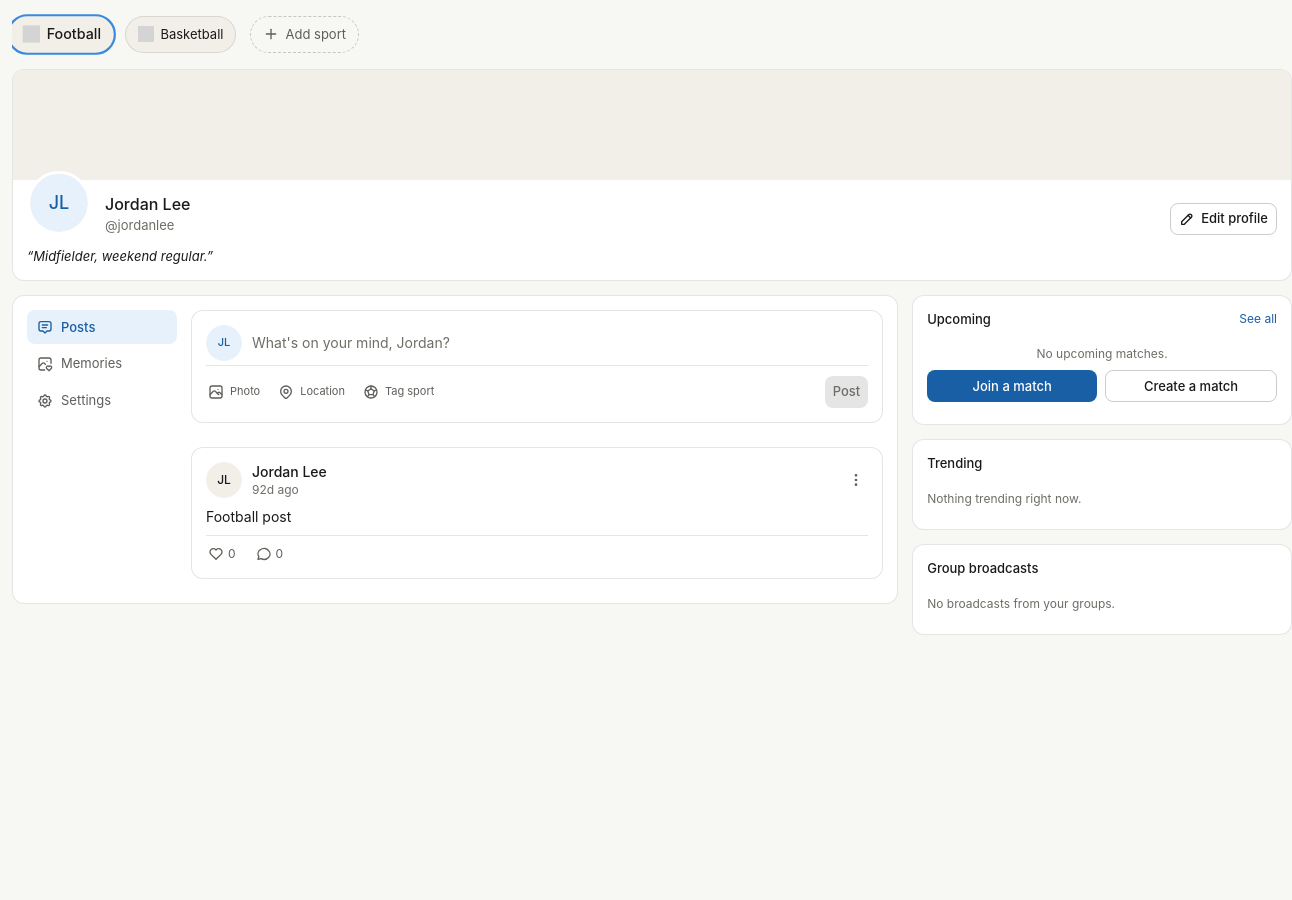
ProfilePage › propagates a SportSwitcher change to both Posts and Settings
Expected: the text "Football post" is shown, [206, 508, 291, 524]
Expected: the text "Basketball post" is not shown
Click the button "Basketball".
click(181, 34)  # box [125, 16, 236, 53]
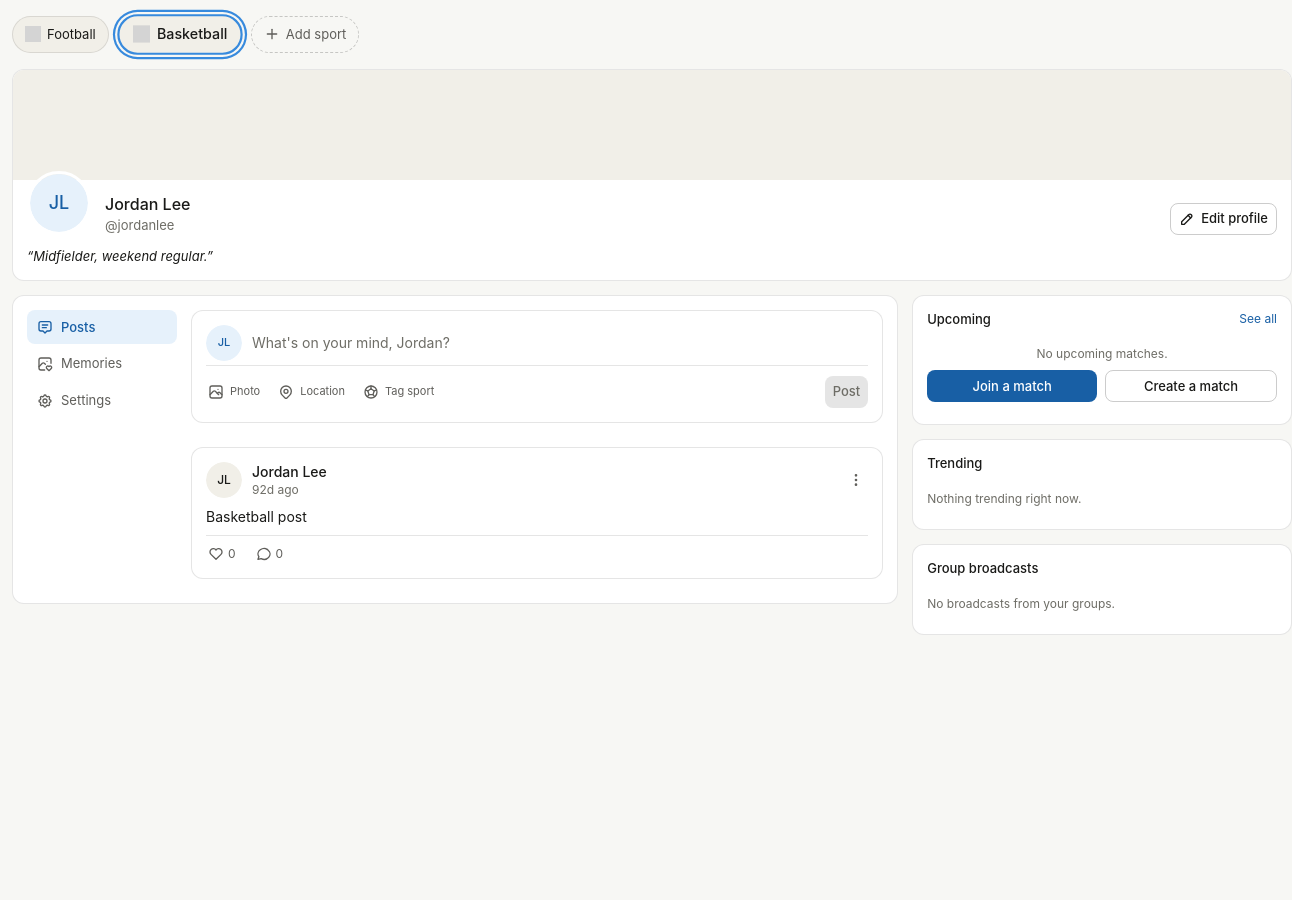
Expected: the text "Basketball post" is shown, [206, 508, 307, 524]
Expected: the text "Football post" is gone
Click the tab "Settings".
click(102, 401)  # box [27, 383, 177, 418]
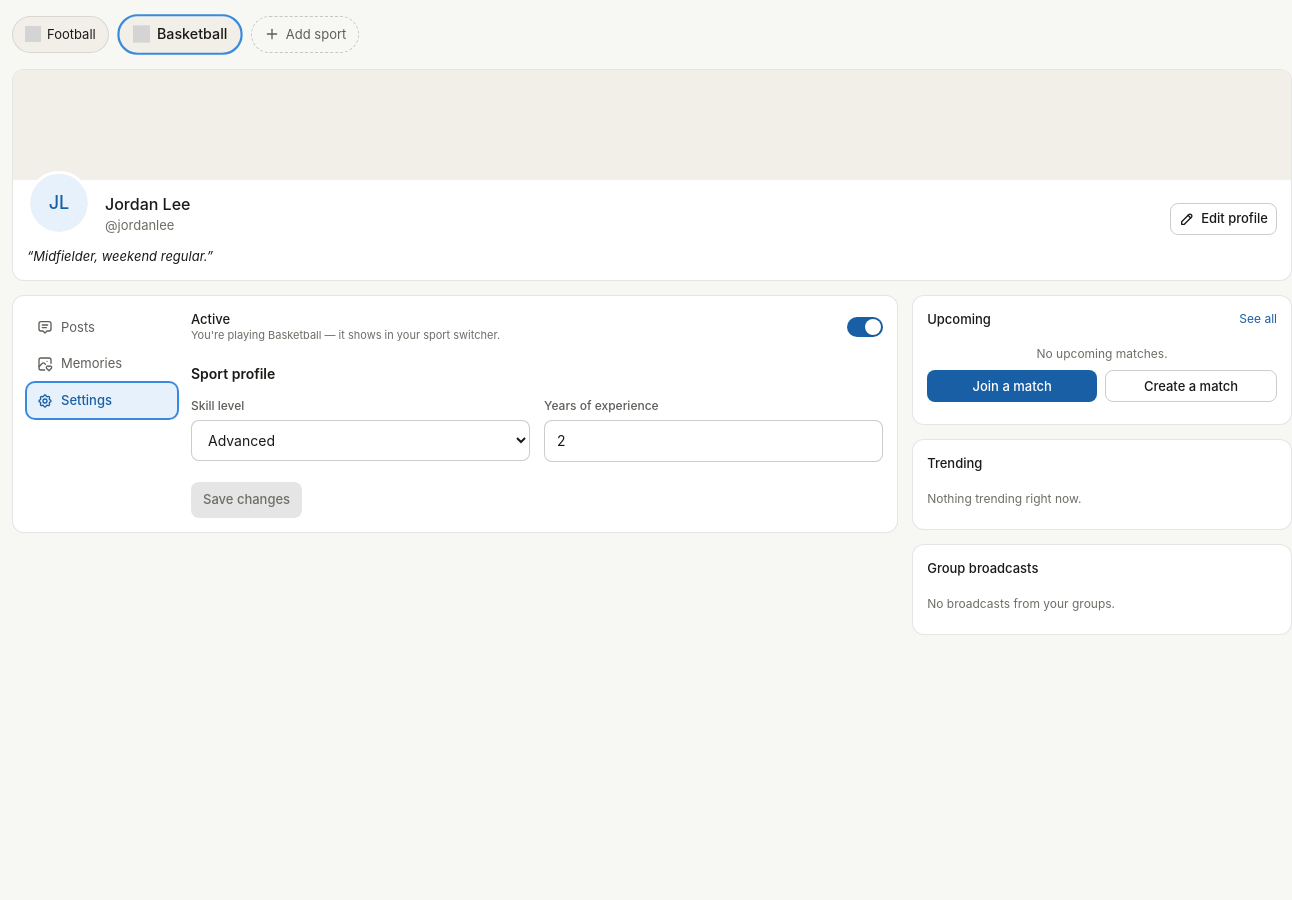
Expected: the dropdown labelled "Skill level" shows "Advanced", [191, 420, 530, 461]
